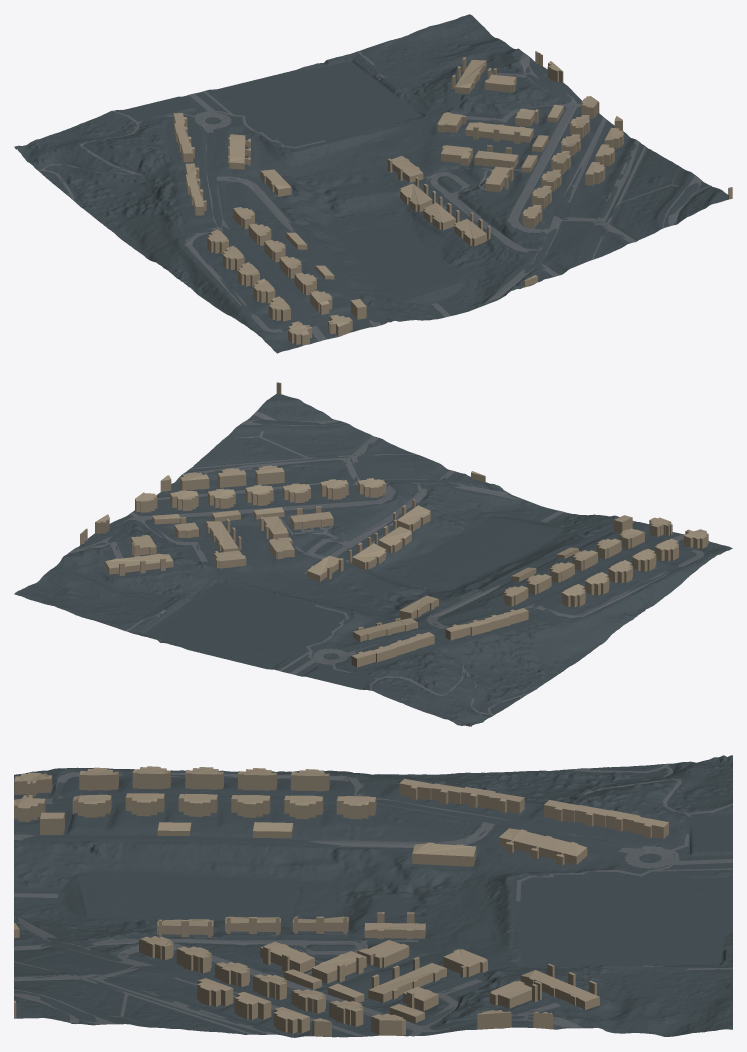
Rendered from epsg26910-1427-10893.lod0.glb.
The picture shows the model from 3 angles, top to bottom: view 1: azimuth 30°, elevation 25°; view 2: azimuth 150°, elevation 25°; view 3: azimuth 270°, elevation 25°; orthographic projection. The views are drawn at different scales.
Visible parts, largest first — view 1: epsg26910-1427-10893-lod0; view 2: epsg26910-1427-10893-lod0; view 3: epsg26910-1427-10893-lod0.
Part boxes in pixels (box(x1,y1,x2,y2)): epsg26910-1427-10893-lod0: box(14, 14, 732, 353); epsg26910-1427-10893-lod0: box(14, 382, 732, 726); epsg26910-1427-10893-lod0: box(14, 755, 732, 1037).
Bounding box in the file's own units: 384 × 48.38 × 384.
